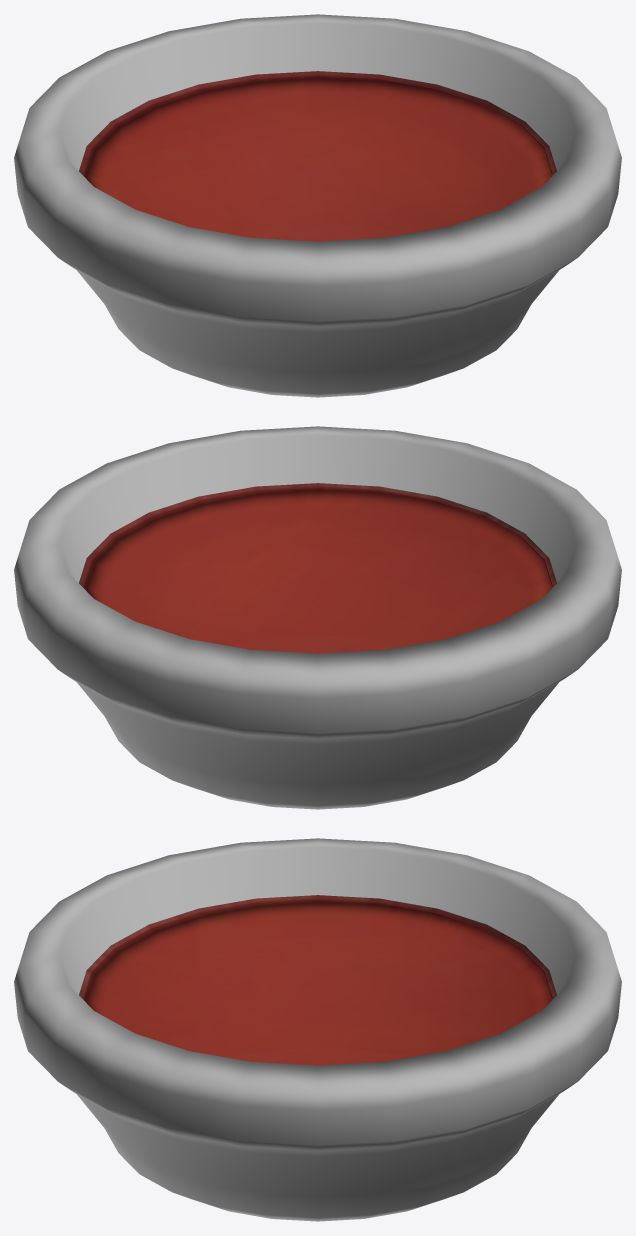
File: pi_smallbowl01_vinegar.gltf
The picture shows the model from 3 angles, top to bottom: view 1: azimuth 30°, elevation 25°; view 2: azimuth 150°, elevation 25°; view 3: azimuth 270°, elevation 25°; orthographic projection.
Visible parts, largest first — view 1: pi_smallbowl01_mesh_shape:pi_smallbowl01_body, pi_vinegar01_mesh_shape:pi_vinegar01_body, pi_vinegar02_mesh_shape:pi_vinegar01_body; view 2: pi_smallbowl01_mesh_shape:pi_smallbowl01_body, pi_vinegar01_mesh_shape:pi_vinegar01_body, pi_vinegar02_mesh_shape:pi_vinegar01_body; view 3: pi_smallbowl01_mesh_shape:pi_smallbowl01_body, pi_vinegar01_mesh_shape:pi_vinegar01_body, pi_vinegar02_mesh_shape:pi_vinegar01_body.
Part boxes in pixels (box(x1,y1,x2,y2)): pi_smallbowl01_mesh_shape:pi_smallbowl01_body: box(14, 14, 621, 397); pi_vinegar01_mesh_shape:pi_vinegar01_body: box(79, 71, 556, 241); pi_vinegar02_mesh_shape:pi_vinegar01_body: box(83, 74, 552, 241); pi_smallbowl01_mesh_shape:pi_smallbowl01_body: box(14, 426, 621, 809); pi_vinegar01_mesh_shape:pi_vinegar01_body: box(79, 483, 556, 653); pi_vinegar02_mesh_shape:pi_vinegar01_body: box(83, 486, 552, 653); pi_smallbowl01_mesh_shape:pi_smallbowl01_body: box(14, 838, 621, 1221); pi_vinegar01_mesh_shape:pi_vinegar01_body: box(79, 895, 556, 1065); pi_vinegar02_mesh_shape:pi_vinegar01_body: box(83, 898, 552, 1064).
Size of the model in its own units: 0.0793 by 0.0274 by 0.0793.
2 materials, 2 textured.
